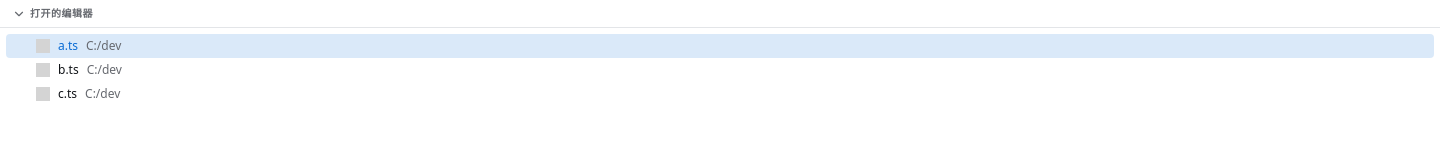
it: EditorLeftSidebar 文件列表拖拽排序 › 拖拽中在目标文件项上方显示插入指示线
Press the mouse on the button with test id "sidebar-item-a.ts": (104,46) [6,34,1434,58]
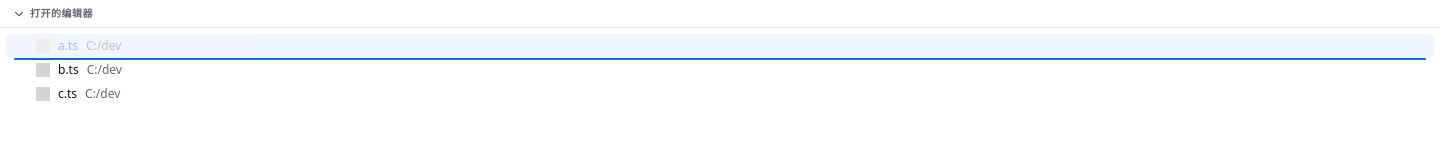
Expected: the element with test id "sidebar-drop-before-b.ts" is shown, [14,58,1426,60]
